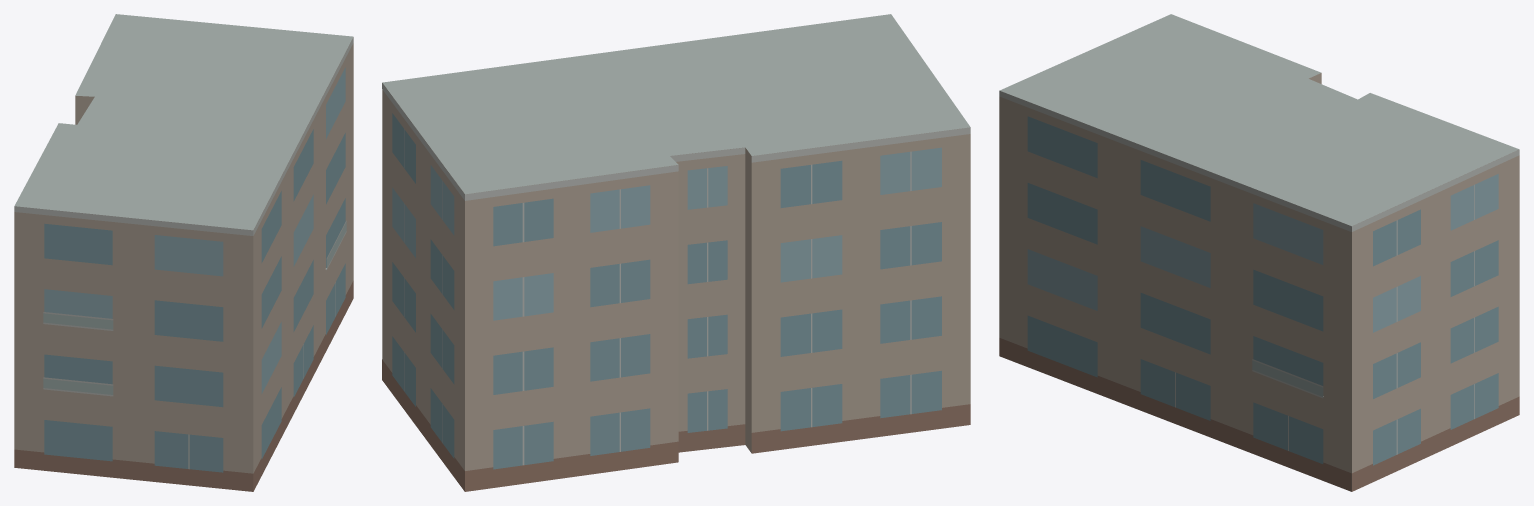
The model's file is survey-upis-32624286.glb.
3 views of the same model, side by side, from view 1: azimuth 30°, elevation 25°; view 2: azimuth 150°, elevation 25°; view 3: azimuth 270°, elevation 25° (orthographic). The views are drawn at different scales.
Visible parts, largest first — view 1: survey-upis-32624286.tmp; view 2: survey-upis-32624286.tmp; view 3: survey-upis-32624286.tmp.
Part boxes in pixels (<box>): survey-upis-32624286.tmp: <box>14,14,353,491</box>; survey-upis-32624286.tmp: <box>382,14,970,491</box>; survey-upis-32624286.tmp: <box>999,14,1519,491</box>.
Size of the model in its own units: 18.86 by 11 by 19.53.
